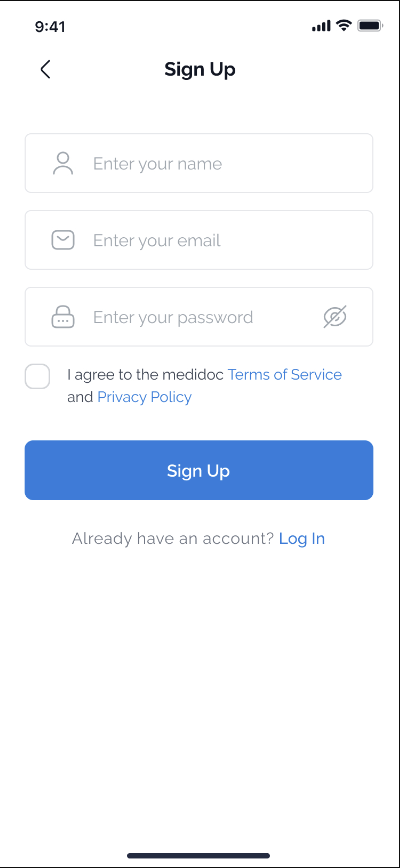AppBar: (1, 35, 400, 87)
